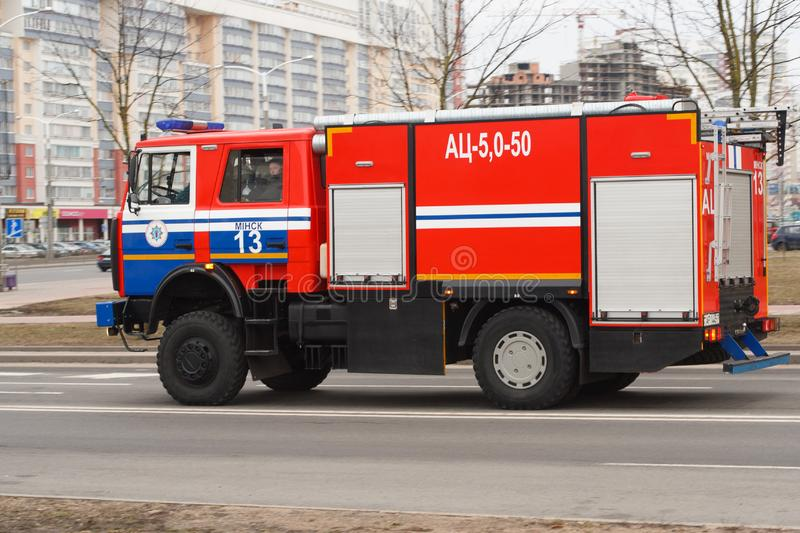special: (95, 94, 791, 411)
